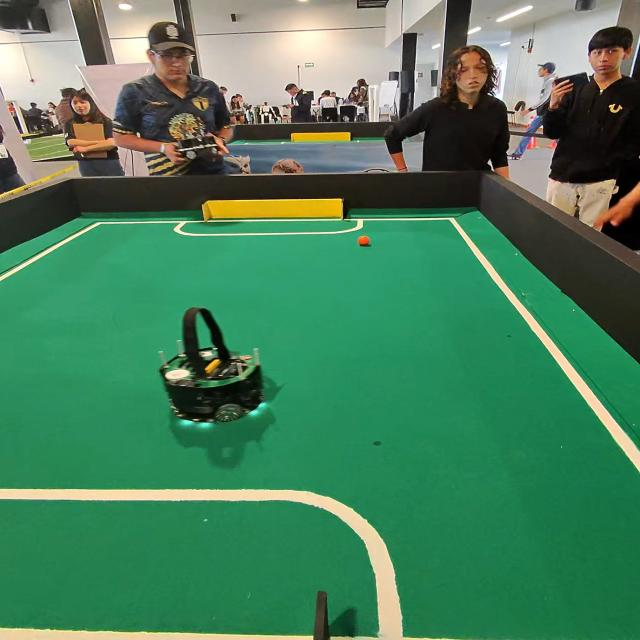Robot: (107, 295, 324, 456)
pelota: (341, 225, 389, 260)
